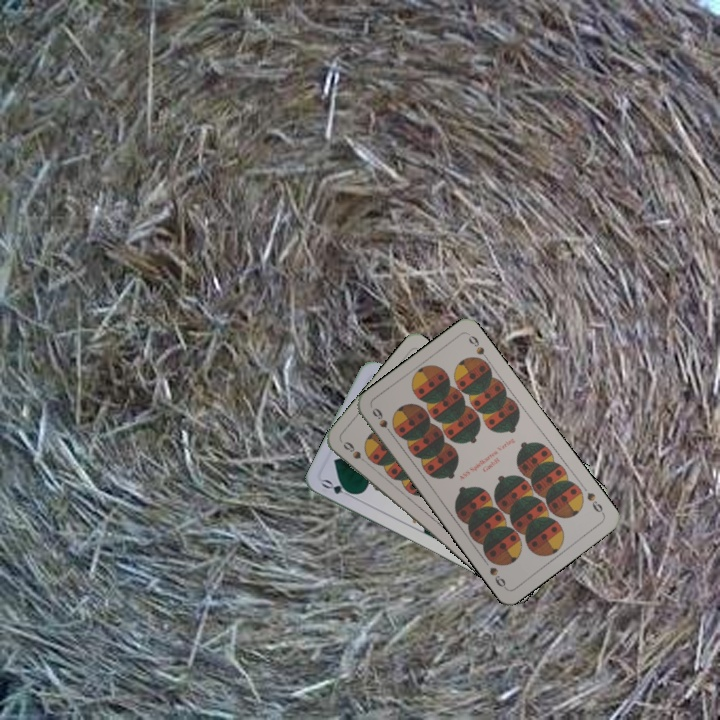GO: (318, 475, 358, 501)
S9: (368, 404, 399, 439), (339, 437, 371, 468), (583, 488, 607, 517)
